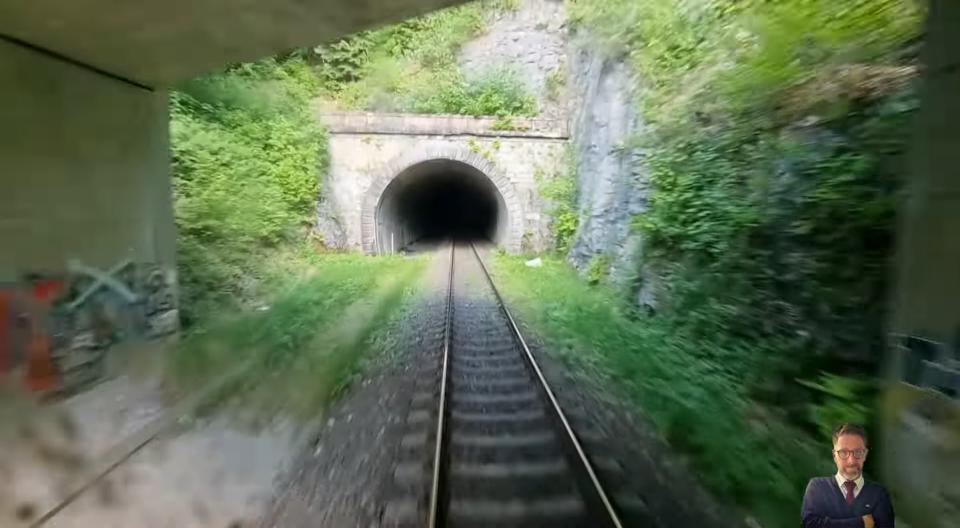Plant: (490, 254, 830, 528), (168, 255, 427, 432)
